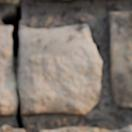brick: (110, 12, 131, 107), (41, 127, 110, 131), (0, 125, 24, 131), (113, 126, 131, 131), (0, 0, 18, 3)
broken_brick: (20, 23, 102, 114), (0, 25, 15, 116)
crack: (0, 2, 24, 129)
